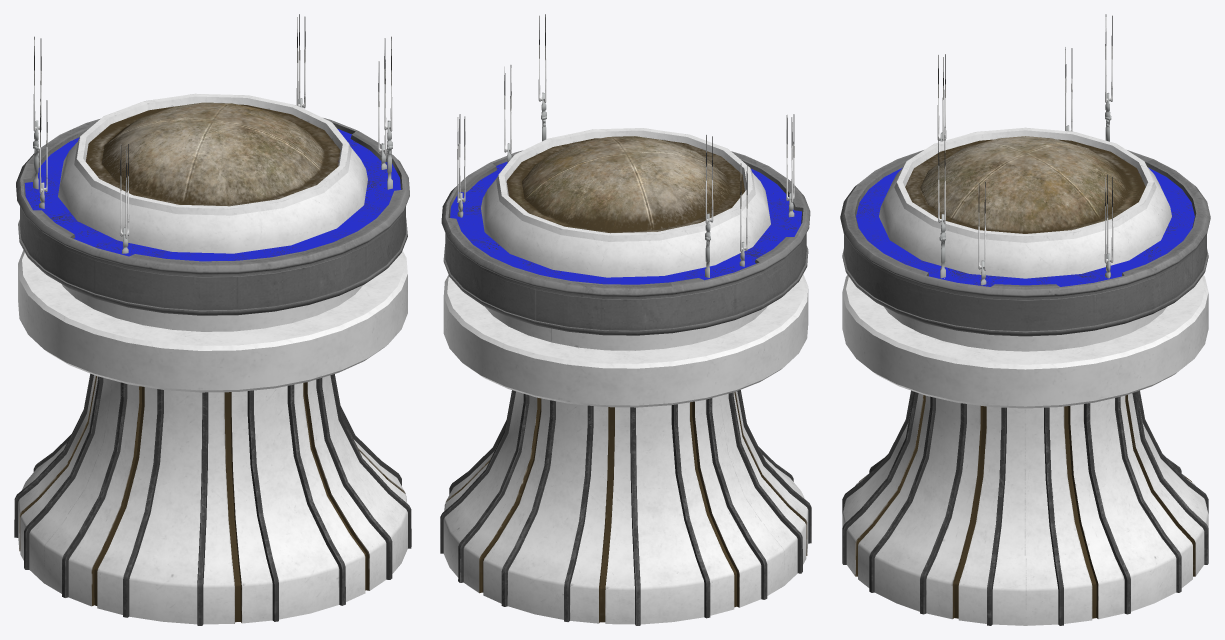
Rendered from ME_grand_Tower.fbx.
3 renders of one model, left to right at view 1: azimuth 30°, elevation 25°; view 2: azimuth 150°, elevation 25°; view 3: azimuth 270°, elevation 25°, orthographic. The views are drawn at different scales.
Visible parts, largest first — view 1: ME_grand_Tower; view 2: ME_grand_Tower; view 3: ME_grand_Tower.
Boxes of the visible parts, bbox=[...] form: ME_grand_Tower: bbox=[14, 14, 411, 625]; ME_grand_Tower: bbox=[440, 14, 811, 625]; ME_grand_Tower: bbox=[840, 14, 1210, 625].
Bounding box in the file's own units: 202 × 285 × 202.
